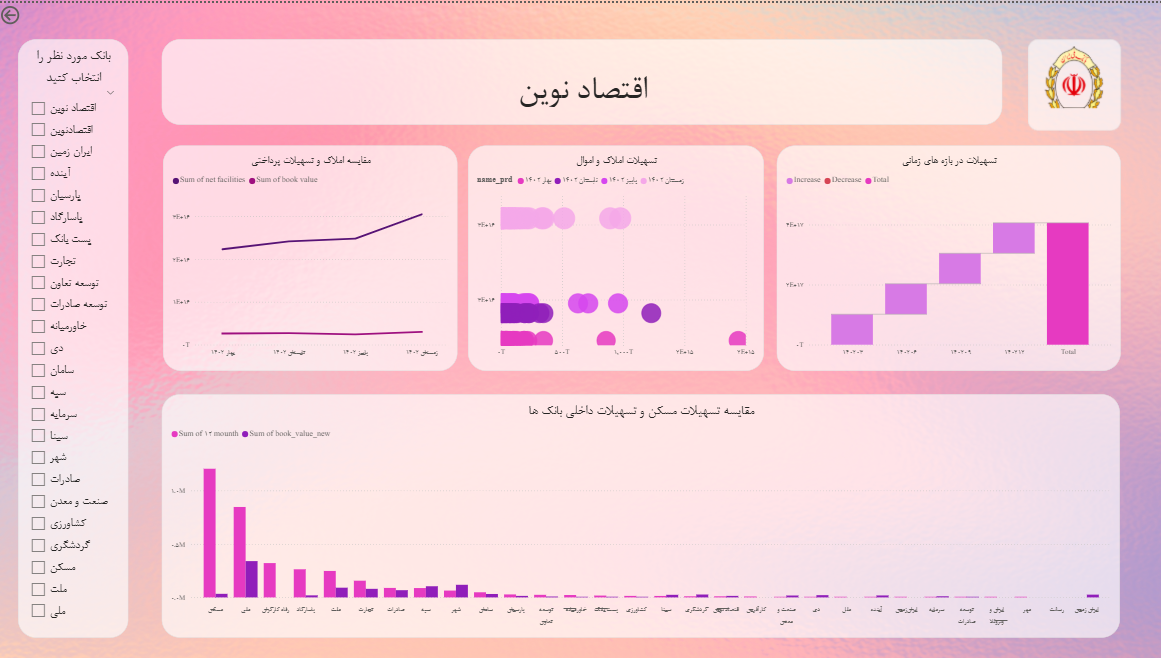

Layout of this report page (visuals, bound fields, positions):
{"tool":"powerbi","page":{"name":"bank_page","canvas":[1920,1080],"ordinal":0},"visuals":[{"type":"clusteredColumnChart","title":"مقایسه تسهیلات مسکن و تسهیلات داخلی بانک ها","fields":{"Y":["Sum(آمار تجمیعی.12 mounth)","Sum(اموال بانک ها.book_value_new)"],"Category":["bank_name_helper.name_helper"]},"box":[270.6,643.4,1577.9,400.9],"z":0},{"type":"lineChart","title":"مقایسه املاک و تسهیلات پرداختی","fields":{"Category":["prd_helper.name_prd"],"Y":["Sum(تسهیلات جاری بانک ها.net facilities)","Sum(اموال بانک ها.book value)"]},"box":[271.3,234.4,484.6,371.4],"z":1000},{"type":"scatterChart","title":"تسهیلات املاک و اموال","fields":{"X":["Table.total asset"],"Y":["Table.housing loan"],"Series":["prd_helper.name_prd"],"Size":["Table.housing loan"],"Category":["bank_property.name"]},"box":[774.3,234.4,487.2,371.4],"z":2000},{"type":"waterfallChart","title":"تسهیلات در بازه های زمانی","fields":{"Category":["bank_property.period"],"Y":["Sum(asset.net facilities)"]},"box":[1282.6,234.4,566.3,371.4],"z":3000},{"type":"slicer","title":"بانک مورد نظر را انتخاب کنید","fields":{"Values":["اموال بانک ها.name"]},"box":[33.2,58.7,181.3,985.5],"z":4000},{"type":"card","fields":{"Values":["Min(bank_property.name)"]},"box":[270.6,58.7,1383.8,140.4],"z":5000},{"type":"actionButton","box":[0,0,100,40],"z":6000},{"type":"simpleImageEBC4593F96F1425FB3D84C5BF02B5075","fields":{"imageURL":["logo.Custom"]},"box":[1695.3,58.7,153.2,150.6],"z":7000}]}

Visuals, with their boxes on the page's 1920x1080 design canvas (x1, y1, x2, y2). These are canvas units, not pixel positions in the 1161x658 screenshot, which may show the page scaled, cropped or inside an application window:
"مقایسه تسهیلات مسکن و تسهیلات داخلی بانک ها" clusteredColumnChart: (271,643,1848,1044)
"مقایسه املاک و تسهیلات پرداختی" lineChart: (271,234,756,606)
"تسهیلات املاک و اموال" scatterChart: (774,234,1262,606)
"تسهیلات در بازه های زمانی" waterfallChart: (1283,234,1849,606)
"بانک مورد نظر را انتخاب کنید" slicer: (33,59,214,1044)
card - Min(bank_property.name): (271,59,1654,199)
actionButton: (0,0,100,40)
simpleImageEBC4593F96F1425FB3D84C5BF02B5075 - logo.Custom: (1695,59,1848,209)
